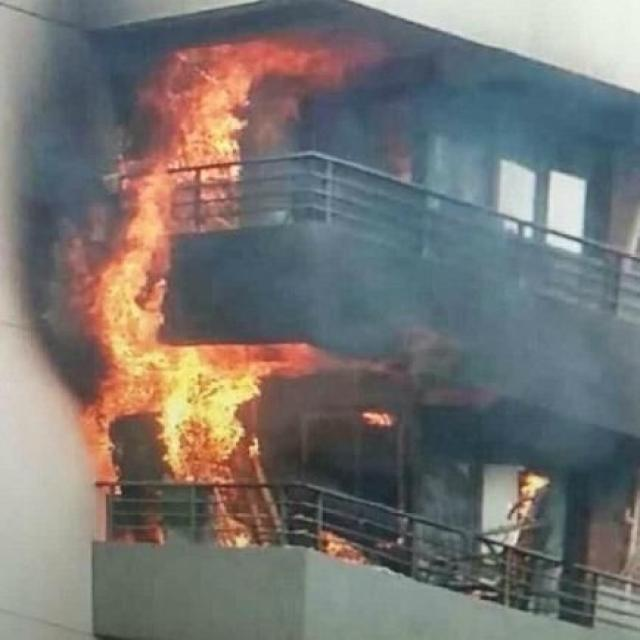Fire: (74, 36, 392, 566), (516, 470, 549, 518)
Smoke: (175, 72, 640, 476)
